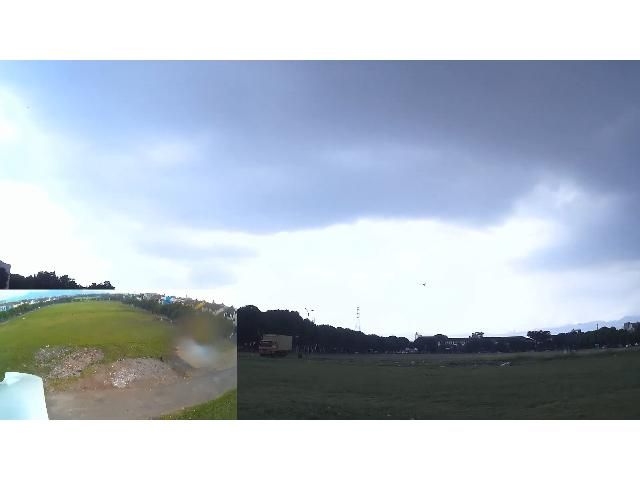Anti-Drone: (416, 280, 436, 290)
